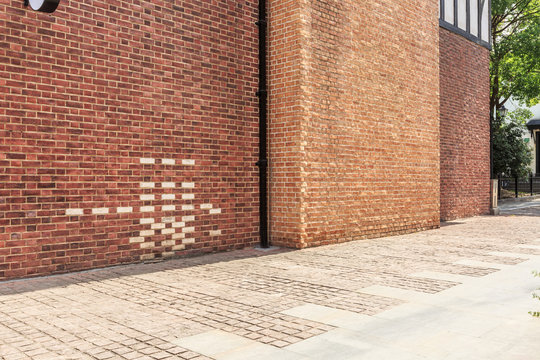Wall: (6, 66, 135, 261), (299, 44, 430, 225), (143, 68, 255, 241), (442, 78, 489, 211)
